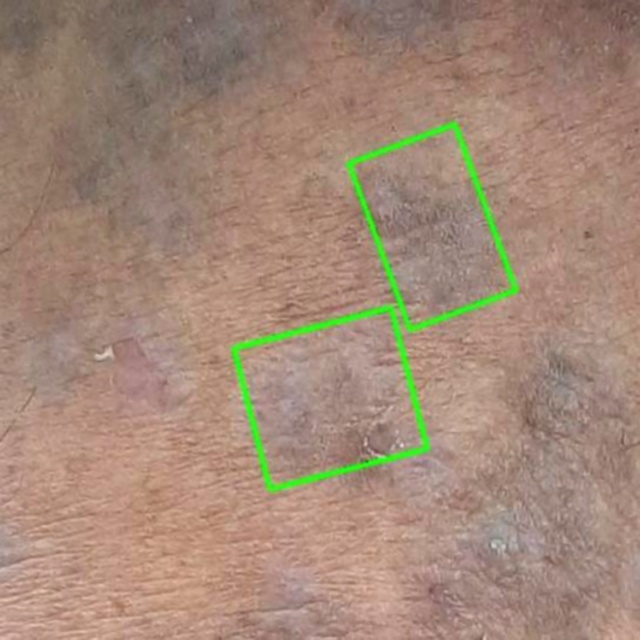Contact Dermatitis: (233, 308, 426, 489), (348, 125, 515, 330)
